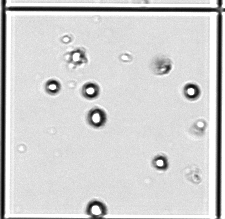Dead Cell: (153, 57, 171, 74), (190, 170, 203, 184)
Living Cell: (86, 200, 106, 217), (89, 107, 105, 127), (82, 82, 98, 99), (68, 49, 86, 64), (44, 78, 60, 94), (184, 82, 200, 98), (152, 155, 168, 169), (195, 118, 206, 130), (60, 33, 71, 43)
